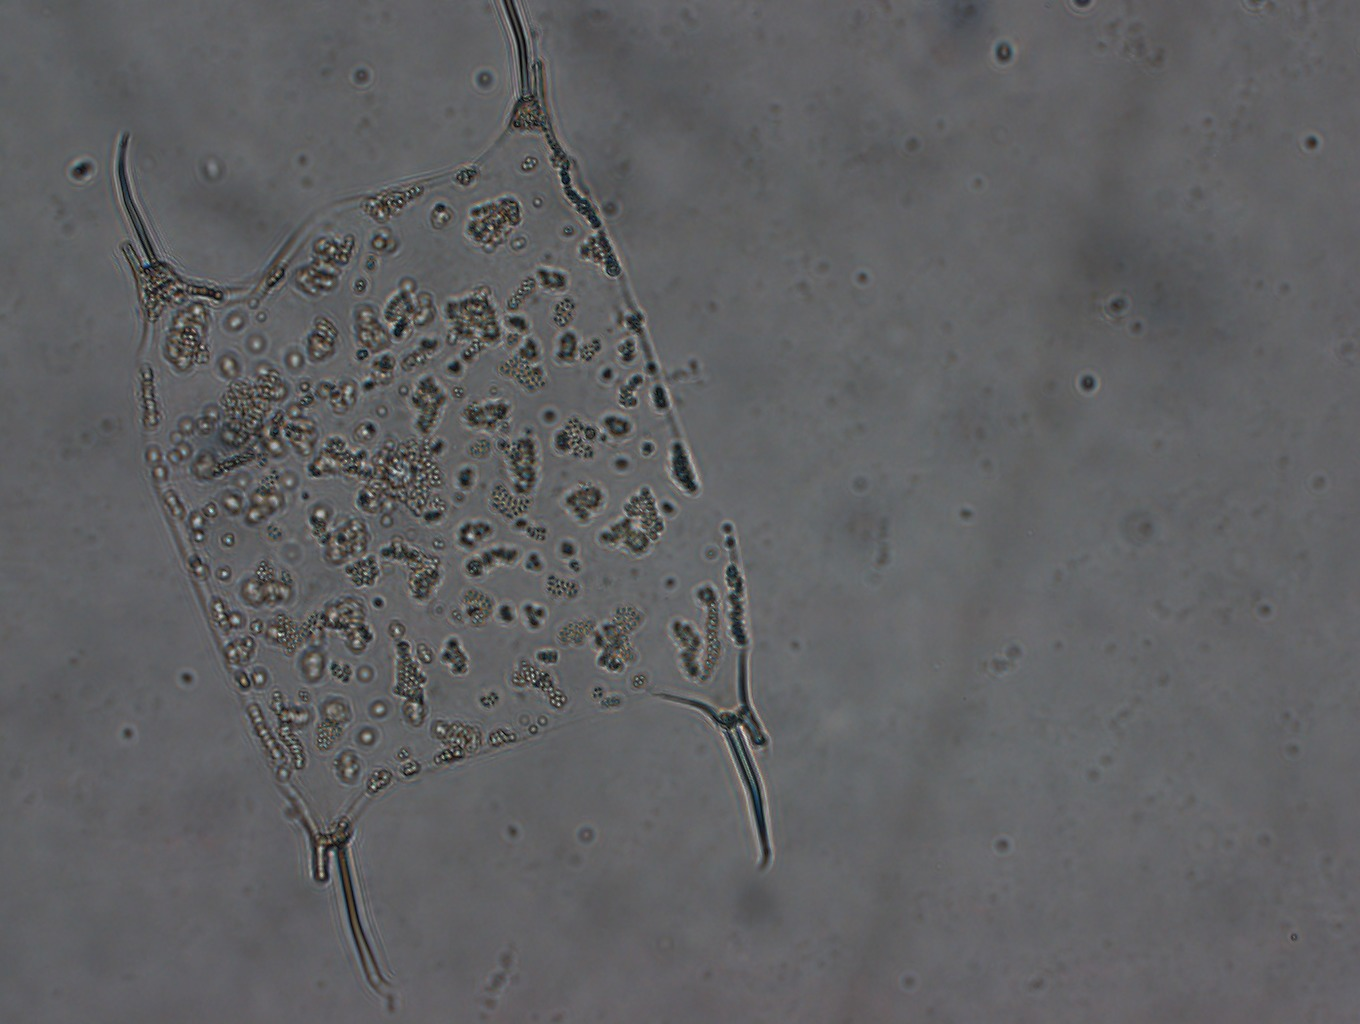biddulphia: (113, 1, 773, 996)
